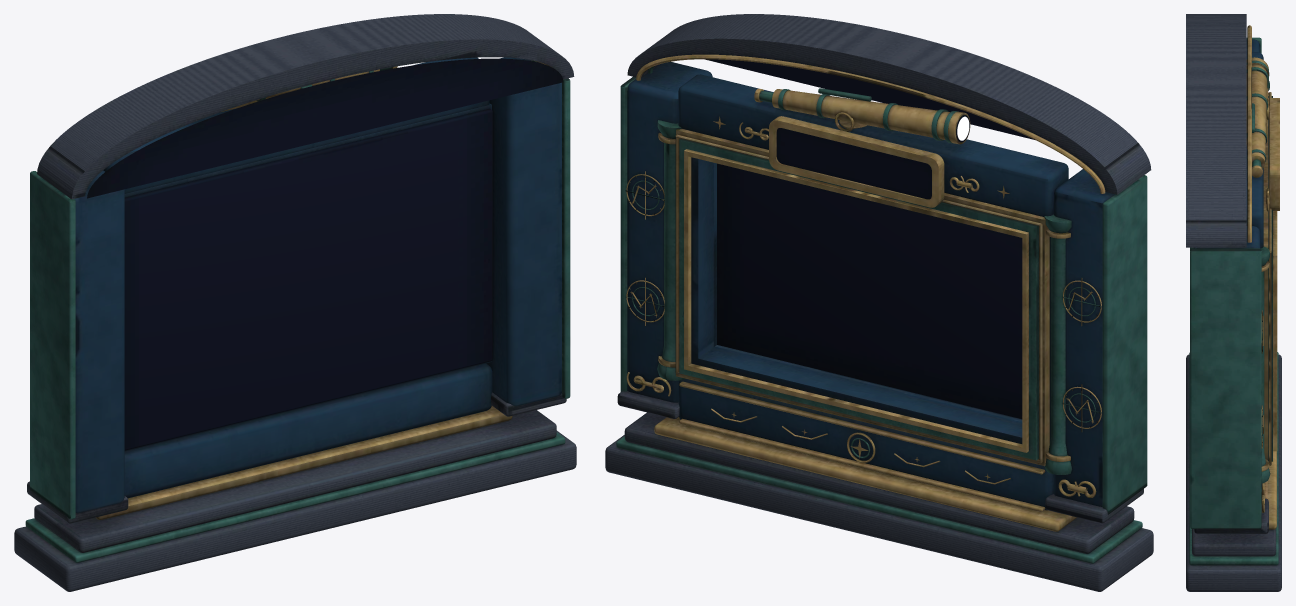
3 views of the same model, side by side, from view 1: azimuth 30°, elevation 25°; view 2: azimuth 150°, elevation 25°; view 3: azimuth 270°, elevation 25° (orthographic). The views are drawn at different scales.
Visible parts, largest first — view 1: Dark_optical_inset, Slate_masonry, Observatory_enamel, Patinated_copper, Antique_brass; view 2: Dark_optical_inset, Observatory_enamel, Slate_masonry, Antique_brass, Patinated_copper; view 3: Patinated_copper, Slate_masonry, Antique_brass, Observatory_enamel.
Part boxes in pixels (left/top/right/bottom): Dark_optical_inset: left=87, top=58, right=563, bottom=450; Slate_masonry: left=14, top=14, right=576, bottom=591; Observatory_enamel: left=74, top=57, right=561, bottom=513; Patinated_copper: left=25, top=60, right=570, bottom=562; Antique_brass: left=95, top=60, right=552, bottom=519; Dark_optical_inset: left=705, top=59, right=1034, bottom=418; Observatory_enamel: left=627, top=61, right=1114, bottom=510; Slate_masonry: left=605, top=14, right=1153, bottom=591; Antique_brass: left=626, top=54, right=1105, bottom=531; Patinated_copper: left=616, top=66, right=1147, bottom=563; Patinated_copper: left=1189, top=37, right=1278, bottom=565; Slate_masonry: left=1186, top=14, right=1281, bottom=591; Antique_brass: left=1246, top=25, right=1279, bottom=529; Observatory_enamel: left=1194, top=39, right=1263, bottom=491.
Bounding box in the file's own units: 10.2 × 9 × 1.98.
6 materials, 5 textured.
